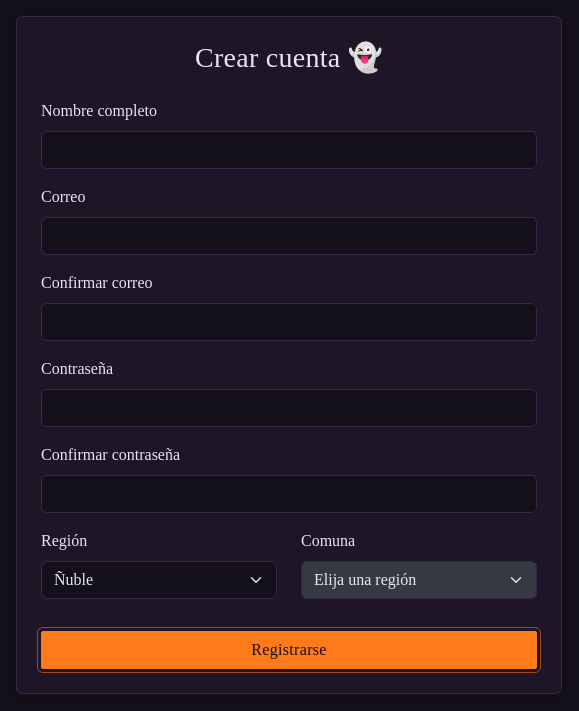
it: Página Registro › la comuna se habilita y se llena al elegir una región
Expected: the dropdown with id "comuna" is disabled, 301,561 -> 537,599
Step 1. Select "Ñuble" in the dropdown with id "region" → (159, 580), box 41,561 -> 277,599
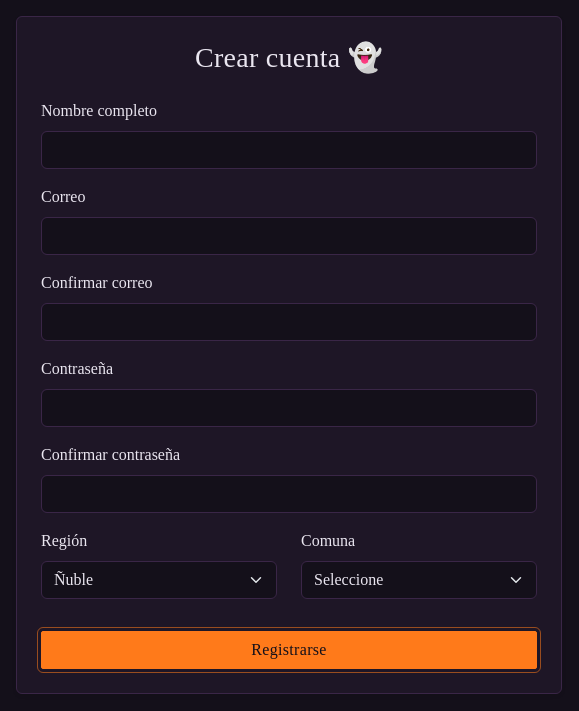
Now the dropdown with id "comuna" is enabled, box 301,561 -> 537,599
